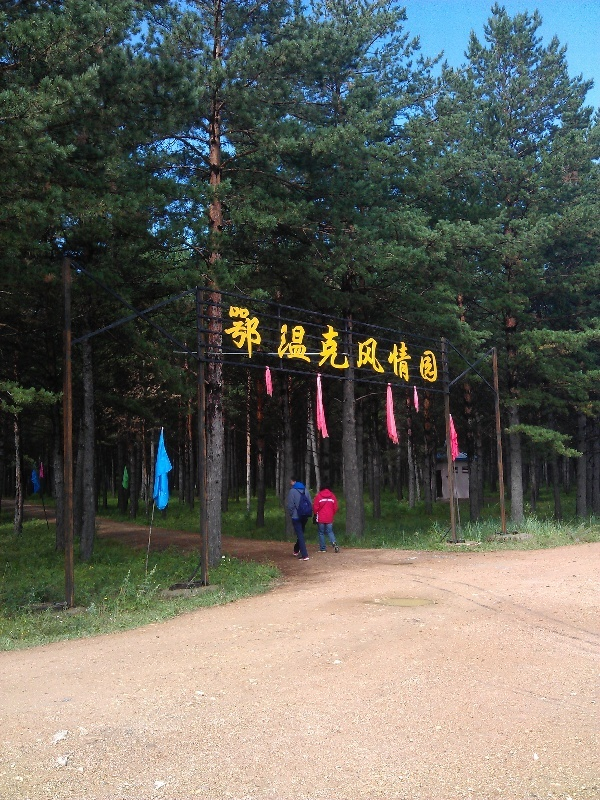text: (225, 303, 240, 396), (241, 303, 256, 396), (257, 303, 272, 396), (273, 303, 288, 396), (289, 303, 304, 396), (305, 303, 320, 396), (321, 303, 336, 396), (337, 303, 352, 396), (353, 303, 368, 396), (369, 303, 384, 396), (385, 303, 400, 396), (401, 303, 416, 396), (417, 303, 432, 396), (433, 303, 442, 396)
